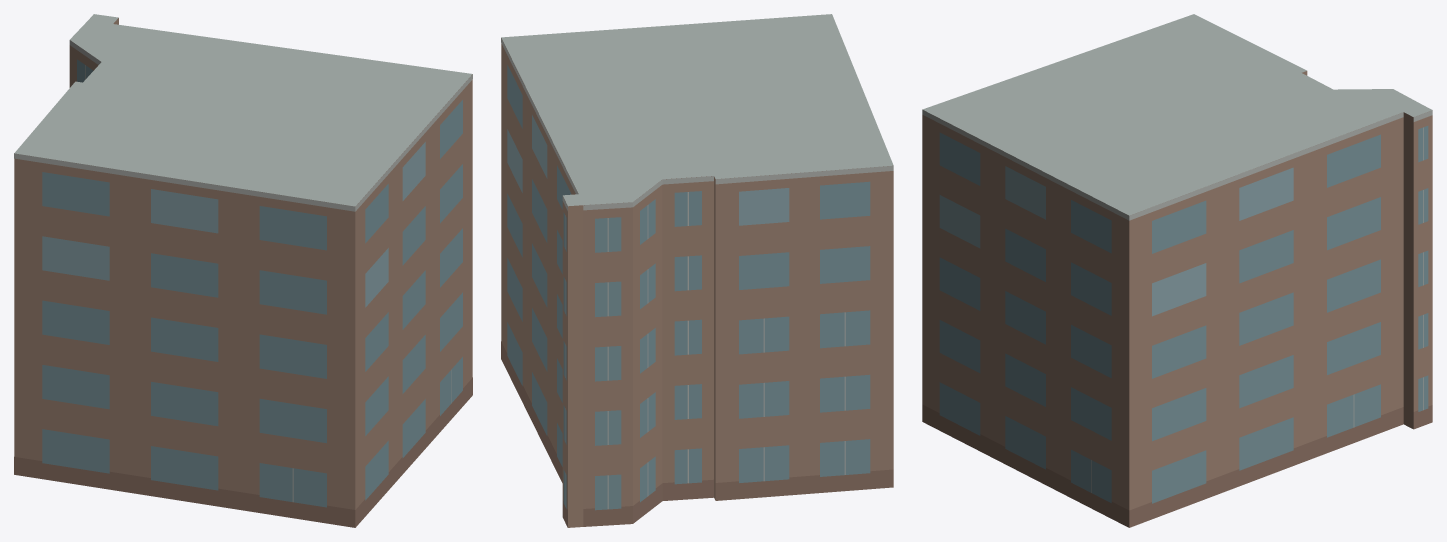
File: survey-upis-32940400.glb
3 views of the same model, side by side, from view 1: azimuth 30°, elevation 25°; view 2: azimuth 150°, elevation 25°; view 3: azimuth 270°, elevation 25° (orthographic). The views are drawn at different scales.
Visible parts, largest first — view 1: survey-upis-32940400.tmp; view 2: survey-upis-32940400.tmp; view 3: survey-upis-32940400.tmp.
Part boxes in pixels (x1,y1,x2,y2): survey-upis-32940400.tmp: (14,14,472,527); survey-upis-32940400.tmp: (501,14,893,527); survey-upis-32940400.tmp: (922,14,1432,527).
Bounding box in the file's own units: 20.92 × 15.1 × 22.38.
